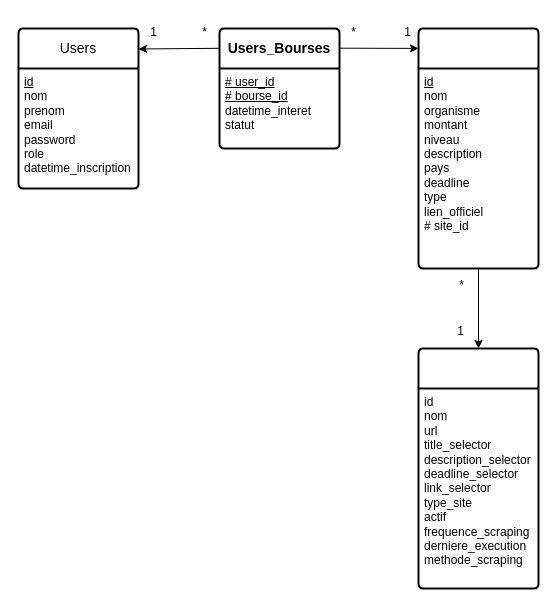
This 556x606 diagram has some shape labels left out. The shapes that lost their labels are listed below. From the top down, each one's box as (x1, y1, x2, y2) in pixels, then its label:
(417, 27, 539, 269): Bourses
(417, 347, 539, 589): Sites
